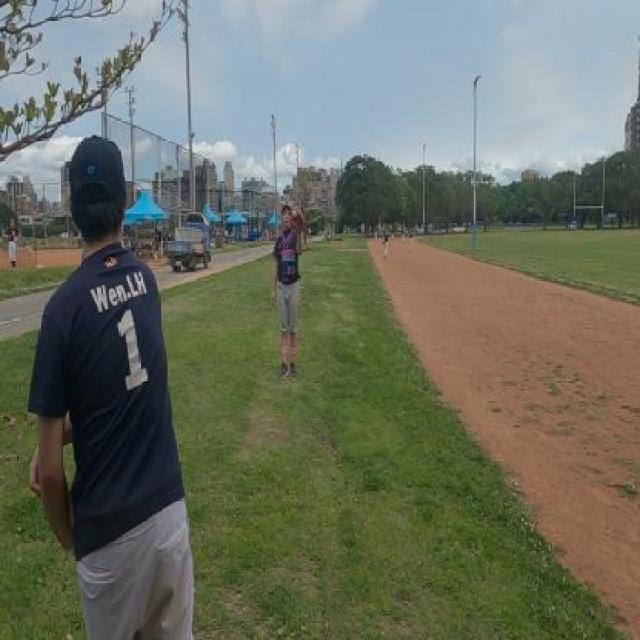baseball: (292, 210, 297, 218)
